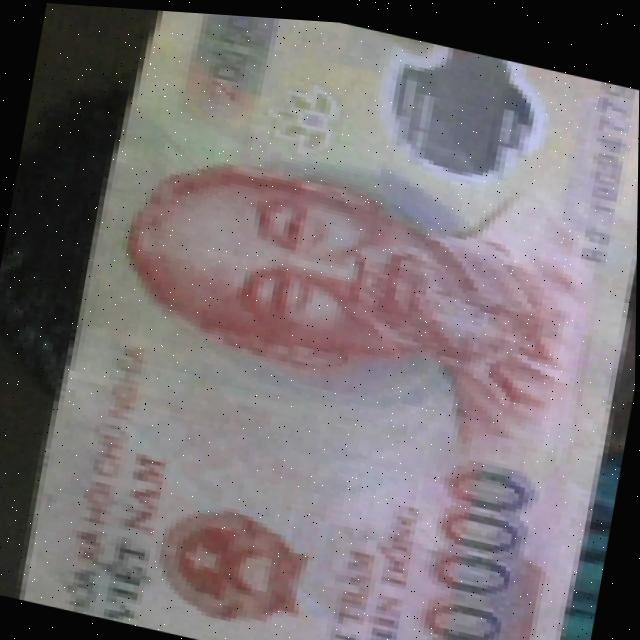200 000 VND: (6, 1, 640, 640)
